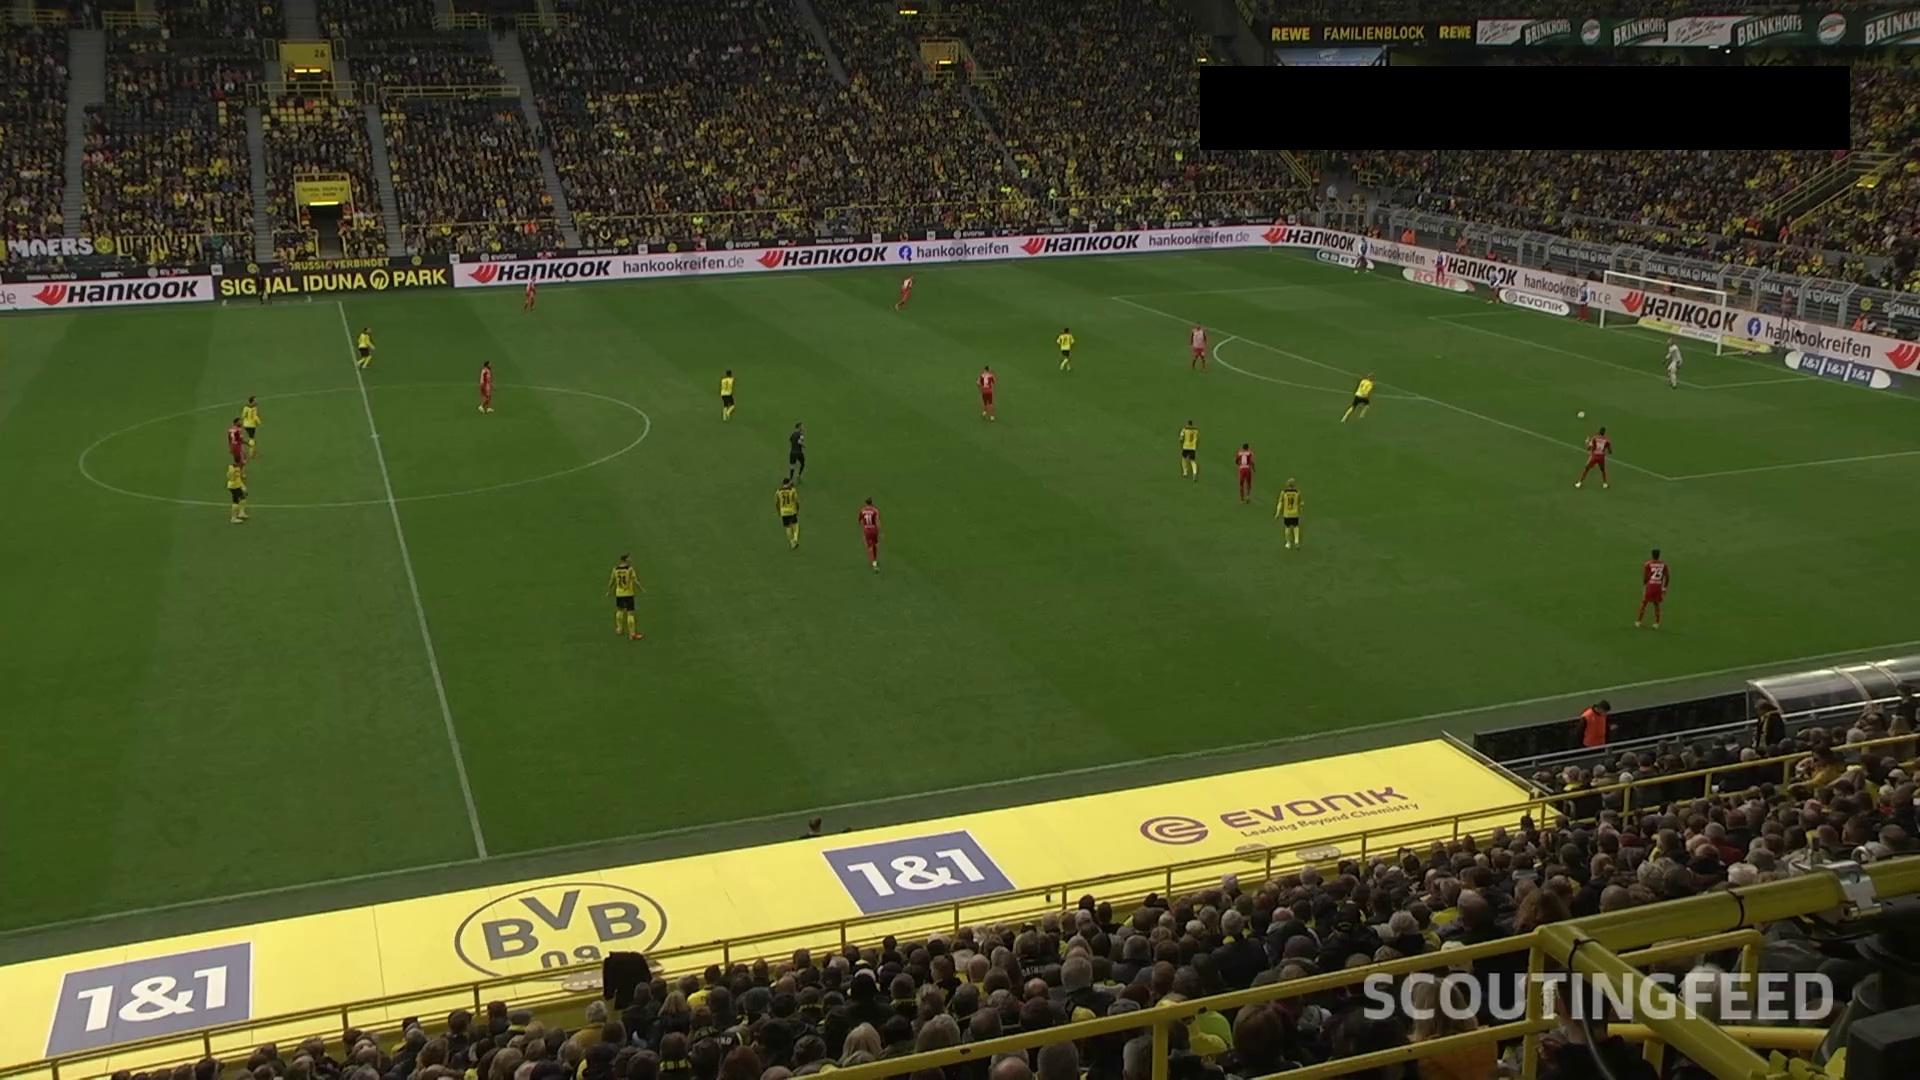Location-of-ball: (1565, 400, 1600, 431)
